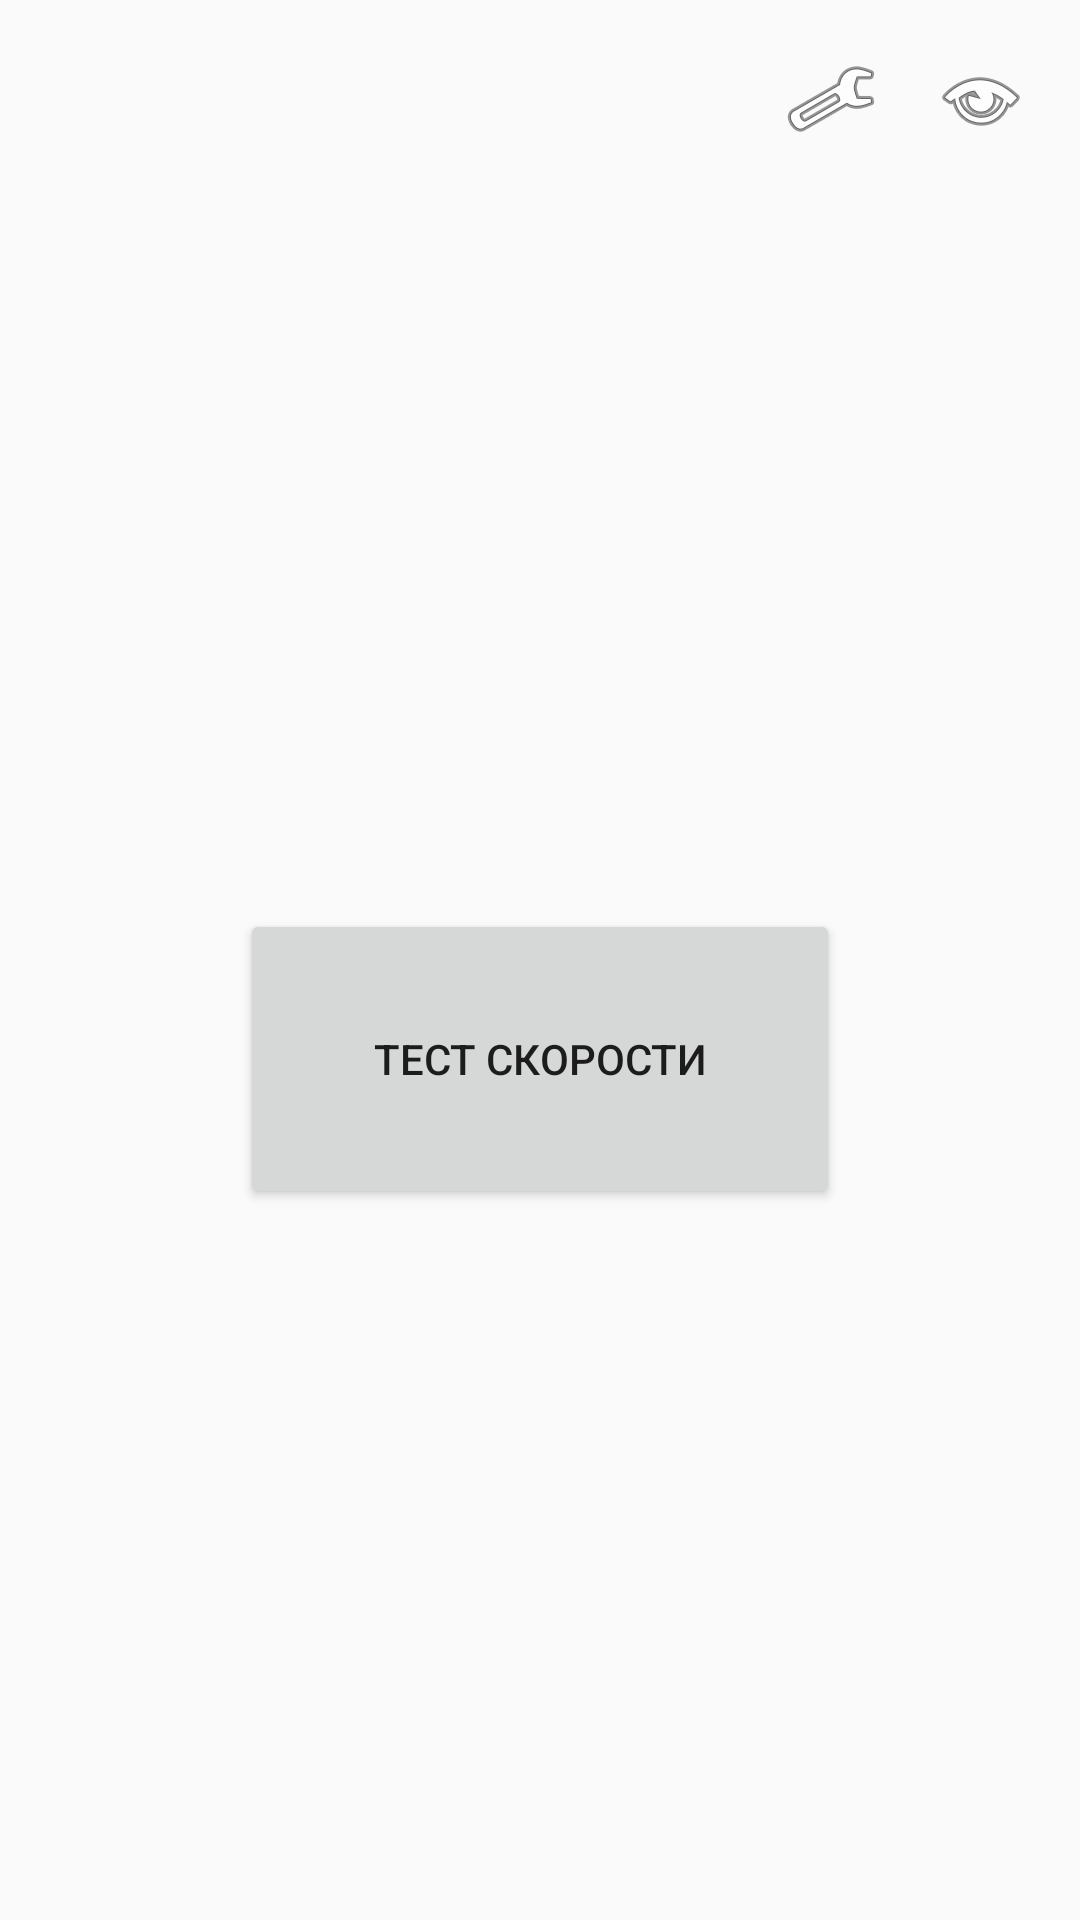

Screen size 1080w x 1920h. Icon name, then its box in pixels as (x1, y1, x2, y2):
Settings: (788, 66, 874, 132)
